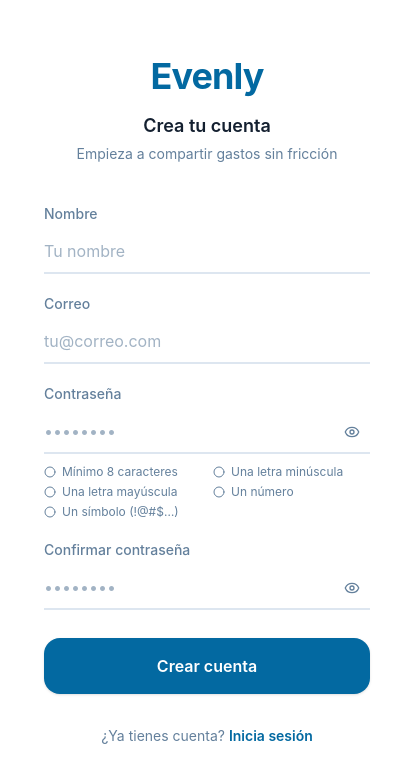
Scenario: Contraseña visible y requisitos › E2E-19 muestra u oculta la contraseña y marca los requisitos mientras se escribe
The image size is (414, 759).
Type "abc" into the password field labelled "Contraseña". click: (207, 432)
box: [44,410,370,454]
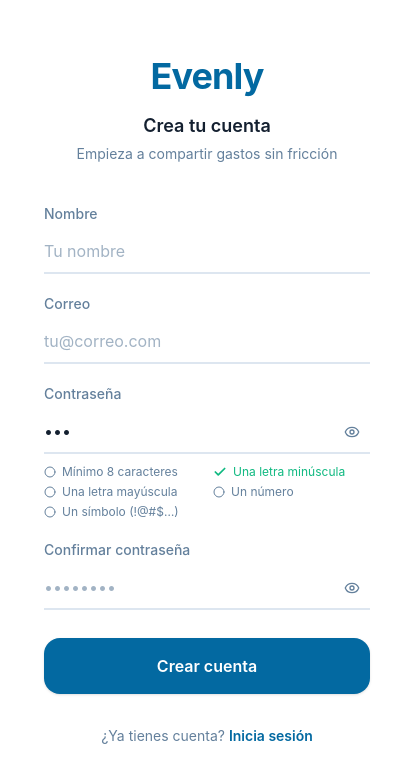
Click the 1st button named "Mostrar contraseña". click: (352, 432)
box: [334,414,370,450]
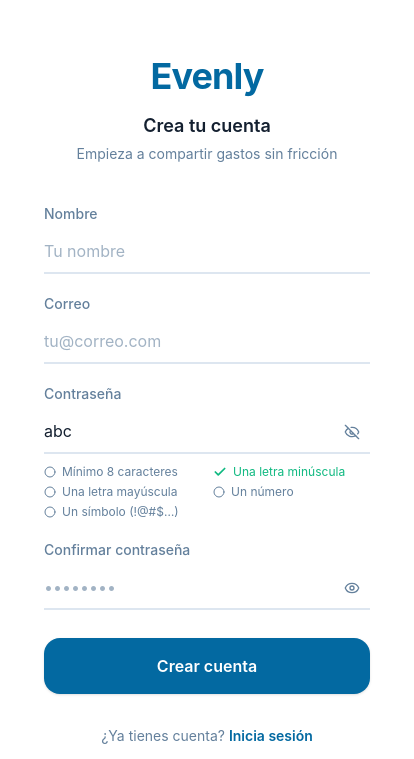
Expected: the field labelled "Contraseña" shows its text
Type "DEF12!" into the field labelled "Contraseña". click: (207, 432)
box: [44,410,370,454]
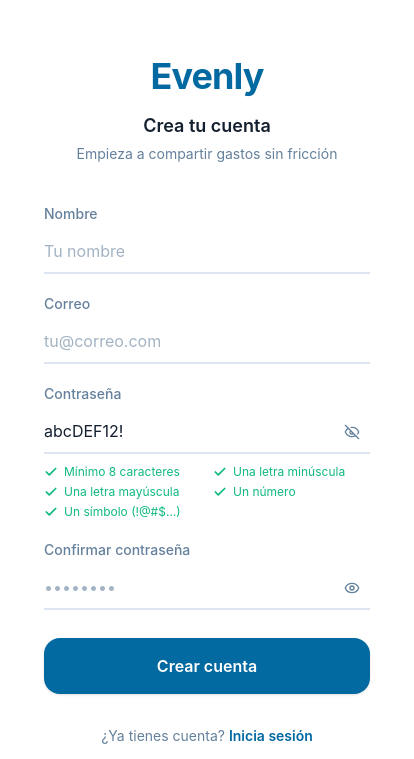
Click the button named "Ocultar contraseña". click: (352, 432)
box: [334,414,370,450]
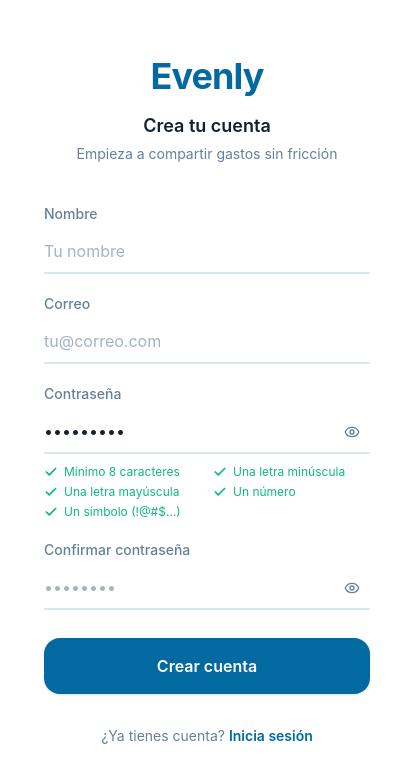
Expected: the password field labelled "Contraseña" hides its text, [44,410,370,454]
